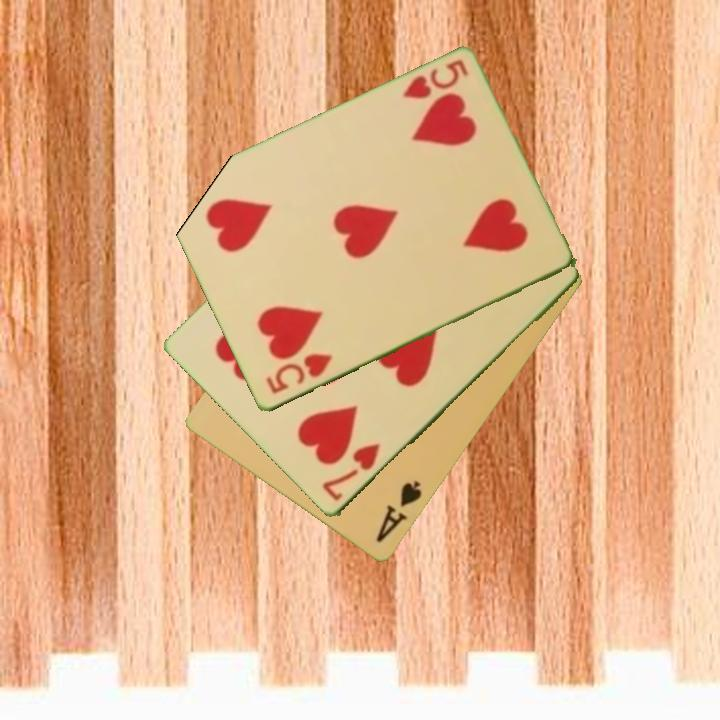5h: (262, 350, 335, 397), (399, 56, 472, 103)
7h: (318, 440, 384, 505)
As: (372, 477, 425, 546)
